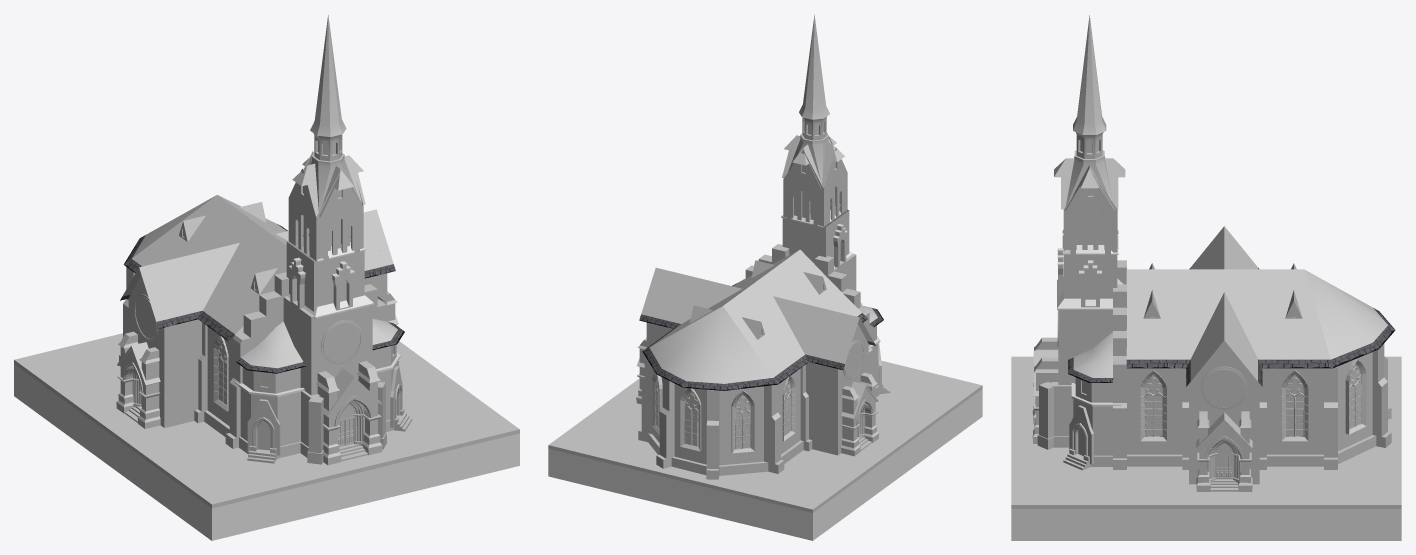
Rendered from Church_Sketchfab.fbx.
3 views of the same model, side by side, from view 1: azimuth 30°, elevation 25°; view 2: azimuth 150°, elevation 25°; view 3: azimuth 270°, elevation 25° (orthographic). The views are drawn at different scales.
Visible parts, largest first — view 1: Plane.010, Cube.005, Cube.037, Plane.026, Cube.016, Cube.026, Plane.014, Cube.001, Cube.004, Plane.012, Plane.022, Plane.004 (+2 smaller); view 2: Plane.010, Cube.005, Cube.037, Plane.014, Cube.026, Cube.016, Plane.004, Cube.004, Cube.033, Plane.006; view 3: Plane.010, Cube.005, Cube.037, Plane.014, Cube.016, Cube.001, Cube.026, Cube.004, Plane.004, Plane.026, Plane.012, Plane.005 (+3 smaller).
Part boxes in pixels (<box>): Plane.010: <box>14,328,519,540</box>; Cube.005: <box>120,195,404,373</box>; Cube.037: <box>119,231,398,464</box>; Plane.026: <box>316,361,382,465</box>; Cube.016: <box>292,15,365,217</box>; Cube.026: <box>288,151,363,314</box>; Plane.014: <box>116,250,399,428</box>; Cube.001: <box>283,296,378,457</box>; Cube.004: <box>225,272,388,448</box>; Plane.012: <box>247,366,412,463</box>; Plane.022: <box>321,319,362,364</box>; Plane.004: <box>213,261,305,411</box>; Plane.010: <box>548,360,982,540</box>; Cube.005: <box>639,249,883,390</box>; Cube.037: <box>638,201,880,479</box>; Plane.014: <box>636,338,879,456</box>; Cube.026: <box>671,132,847,475</box>; Cube.016: <box>782,14,844,188</box>; Plane.004: <box>652,226,846,453</box>; Cube.004: <box>743,244,875,402</box>; Cube.033: <box>685,123,839,410</box>; Plane.006: <box>680,388,701,451</box>; Plane.010: <box>1011,356,1401,540</box>; Cube.005: <box>1068,226,1395,386</box>; Cube.037: <box>1037,253,1391,484</box>; Plane.014: <box>1144,259,1361,491</box>; Cube.016: <box>1054,15,1125,210</box>; Cube.001: <box>1052,307,1127,447</box>; Cube.026: <box>1058,173,1117,297</box>; Cube.004: <box>1113,260,1126,469</box>; Plane.004: <box>1079,264,1366,441</box>; Plane.026: <box>1032,337,1058,443</box>; Plane.012: <box>1063,405,1093,470</box>; Plane.005: <box>1082,277,1360,394</box>.
Size of the model in its own units: 2868 by 4092 by 3188.
